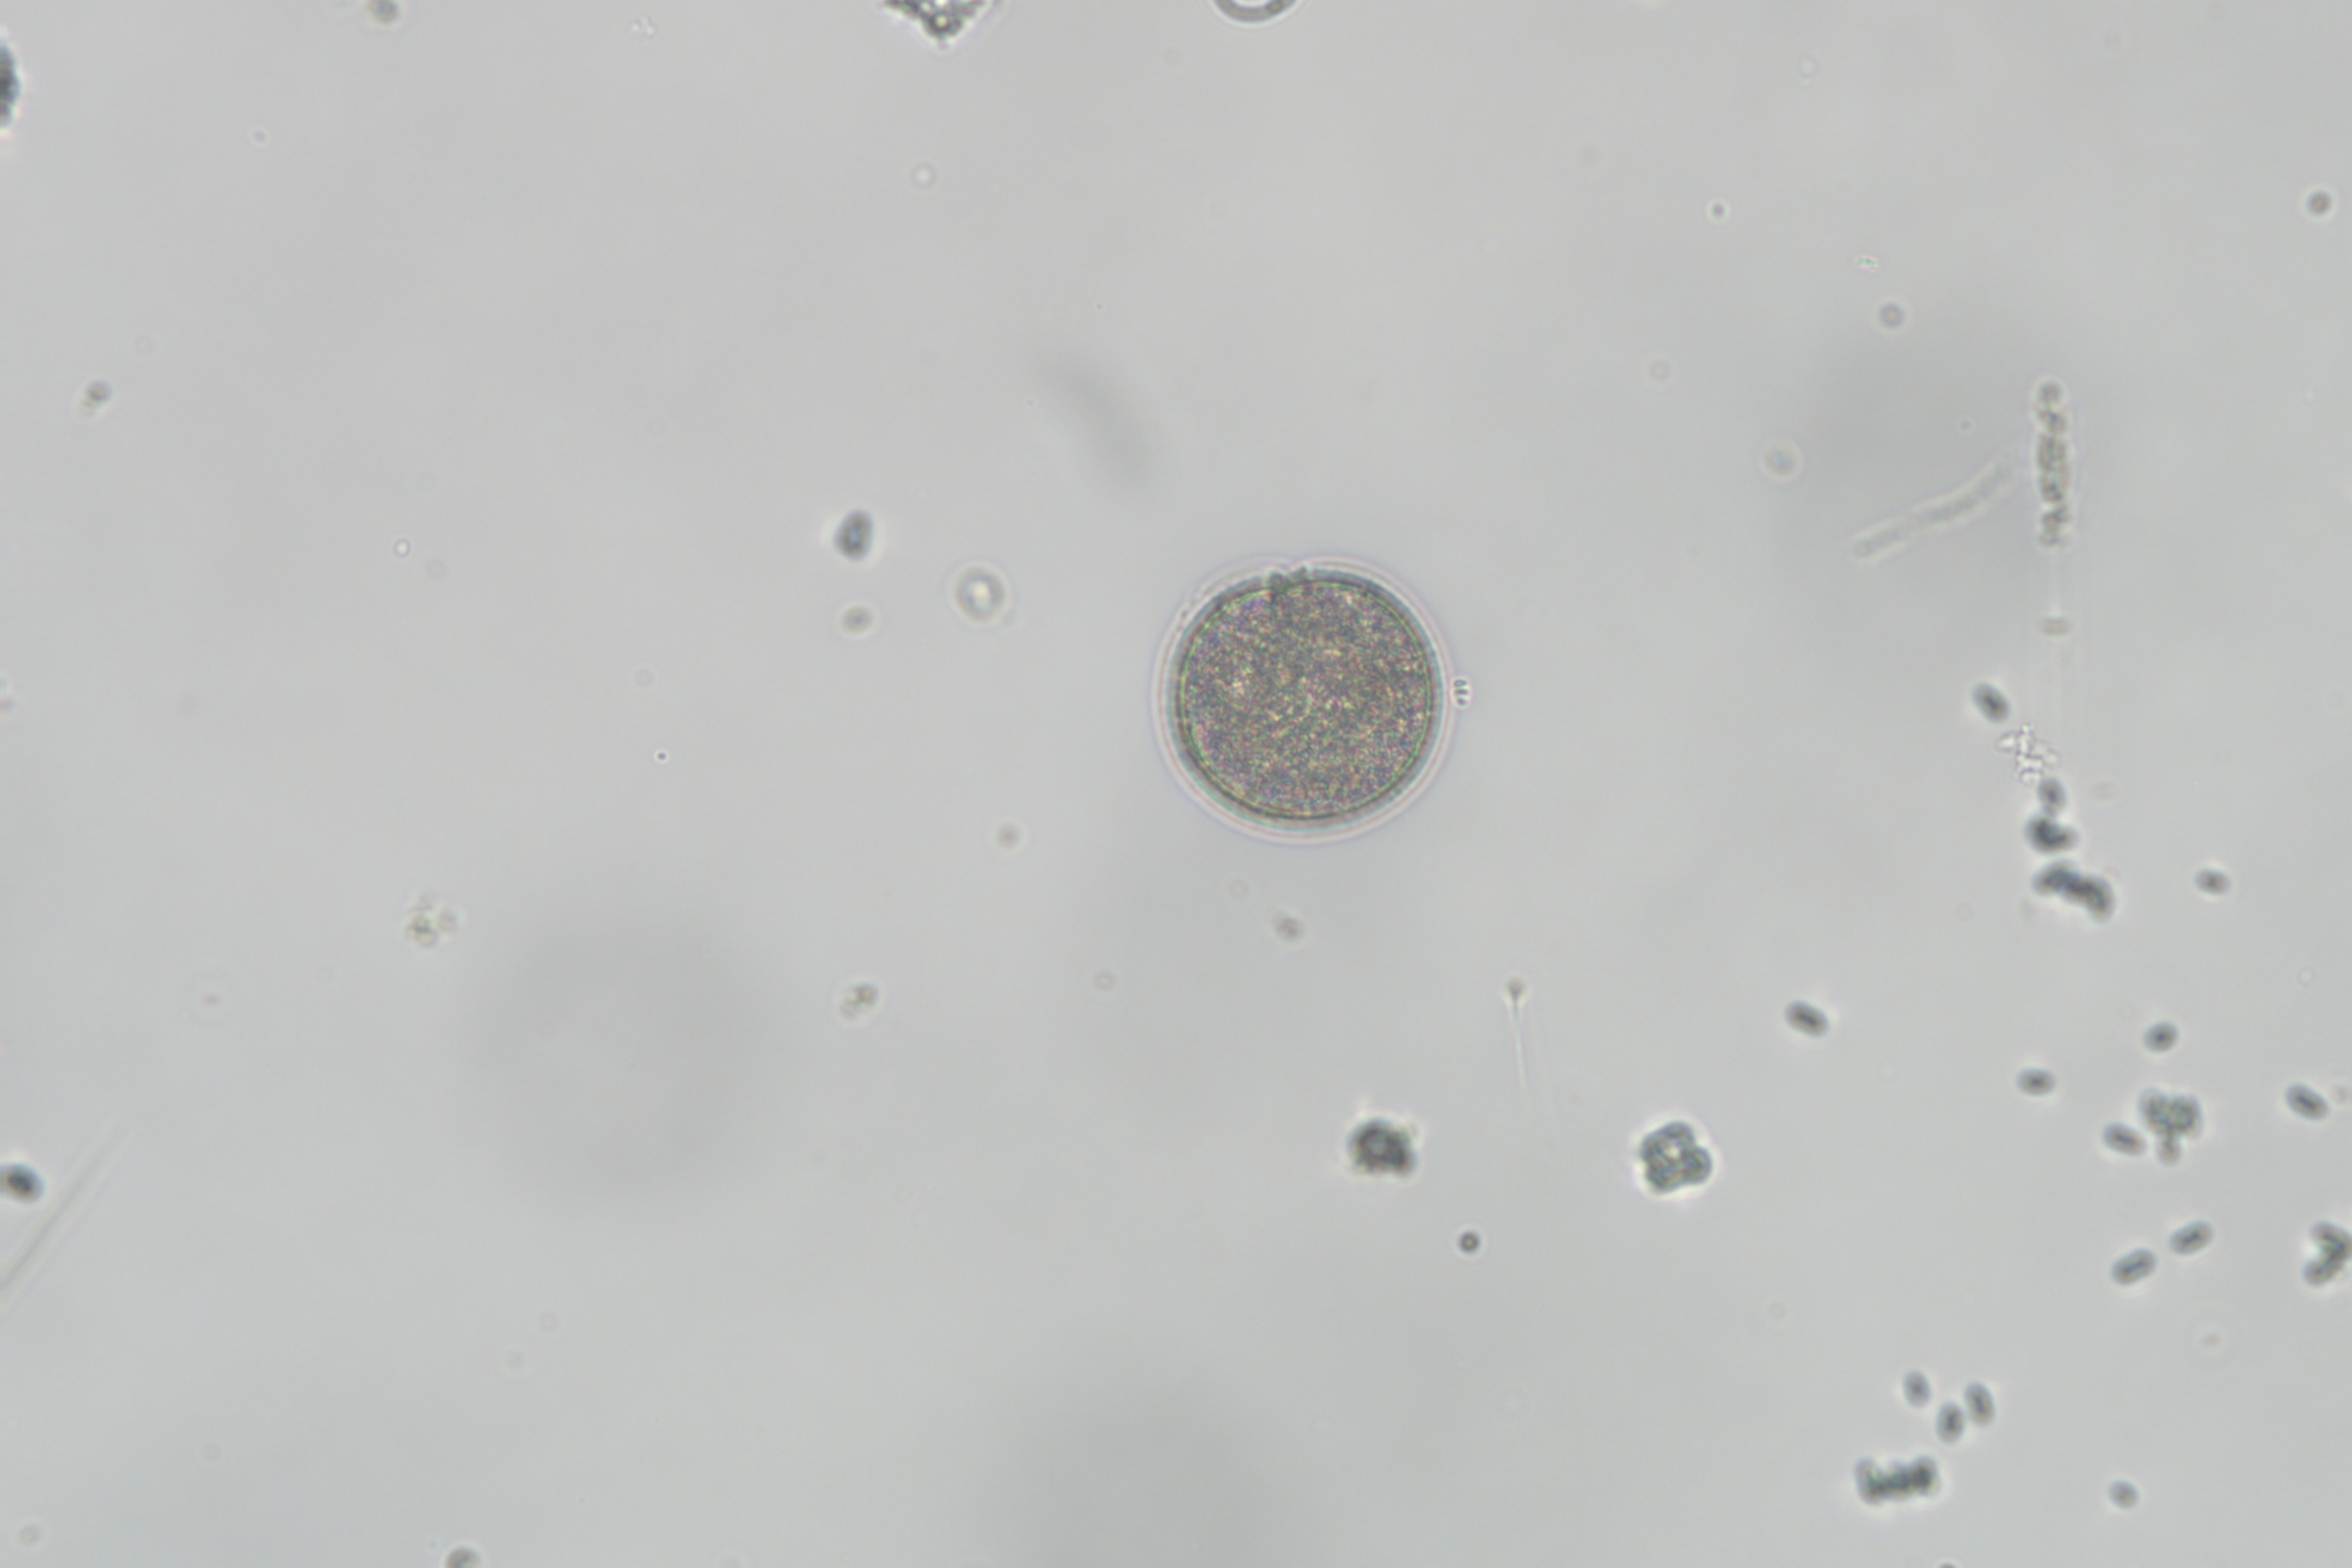coscinodiscus: (1137, 516, 1473, 868)
